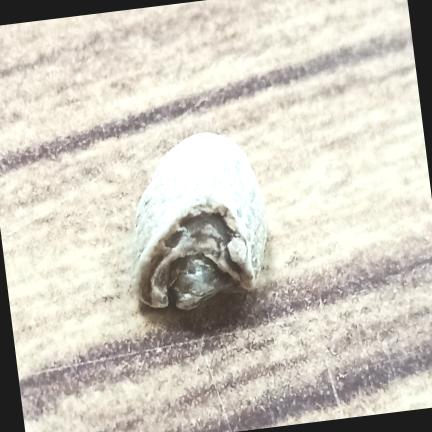cut: (133, 132, 266, 309)
